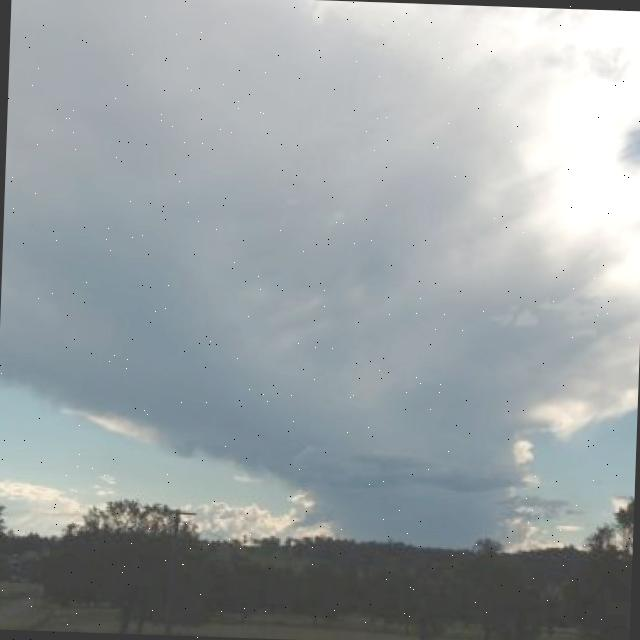Cb: (1, 2, 640, 477)
